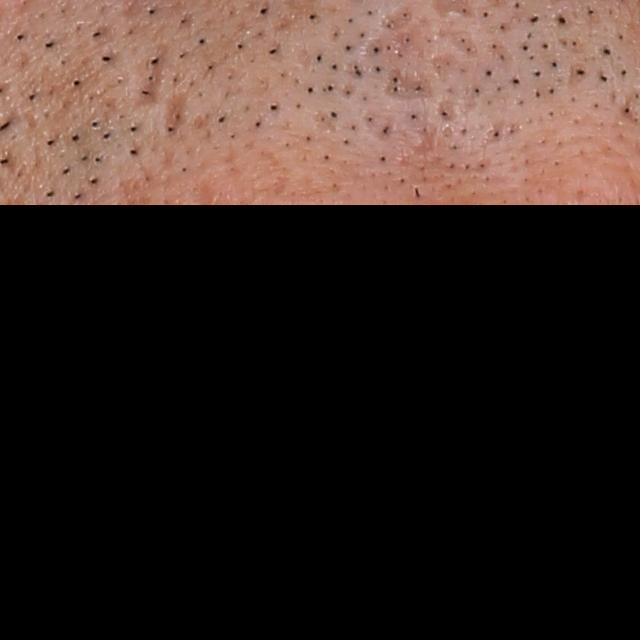atrophic_scar: (429, 36, 525, 124), (359, 15, 441, 59), (377, 65, 442, 109), (132, 41, 172, 108), (159, 87, 193, 139), (434, 26, 480, 59)
